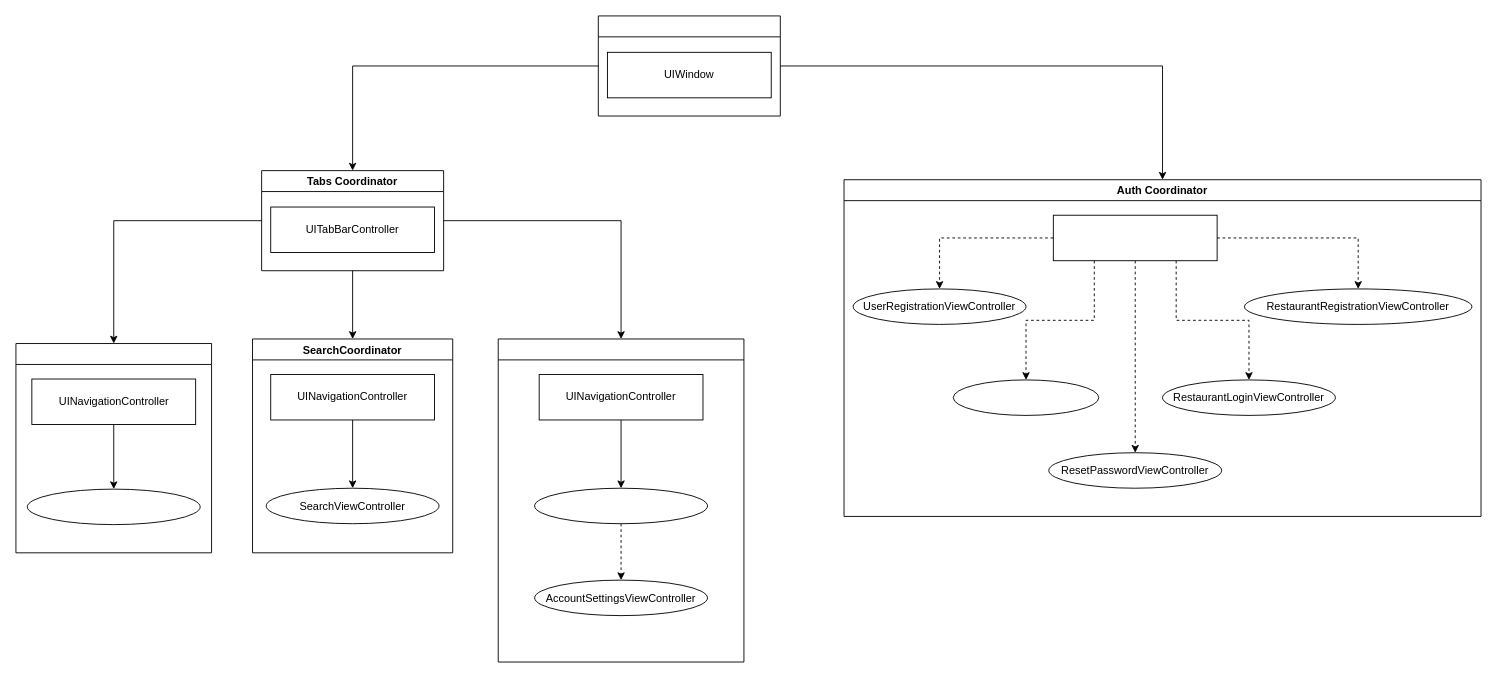
The diagram is 1497 pixels wide and 678 high, and some of its shapes have lost their labels. Here are the shapes that lost their labels. From the top down, the box of each, then its label:
(597, 15, 780, 116): Application Coordinator
(1052, 214, 1217, 261): AuthContainerViewController
(952, 379, 1099, 415): UserLoginViewController
(15, 343, 212, 553): Scan/OffersCoordinator
(26, 488, 200, 525): Scan/OffersViewController
(497, 338, 744, 662): ProfileCoordinator
(534, 487, 708, 524): ProfileViewController
